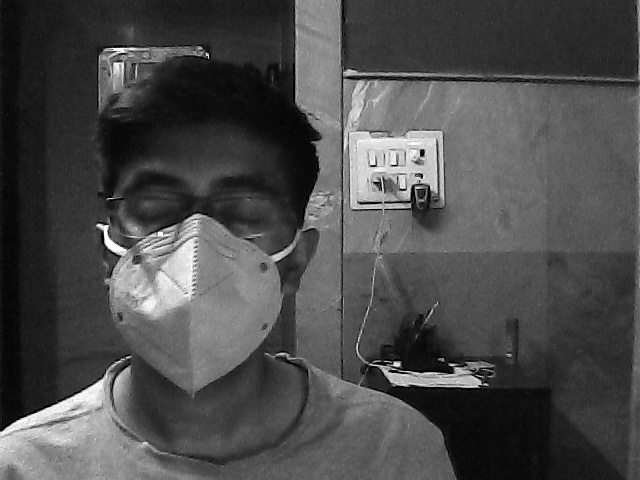mask: (106, 156, 296, 397)
